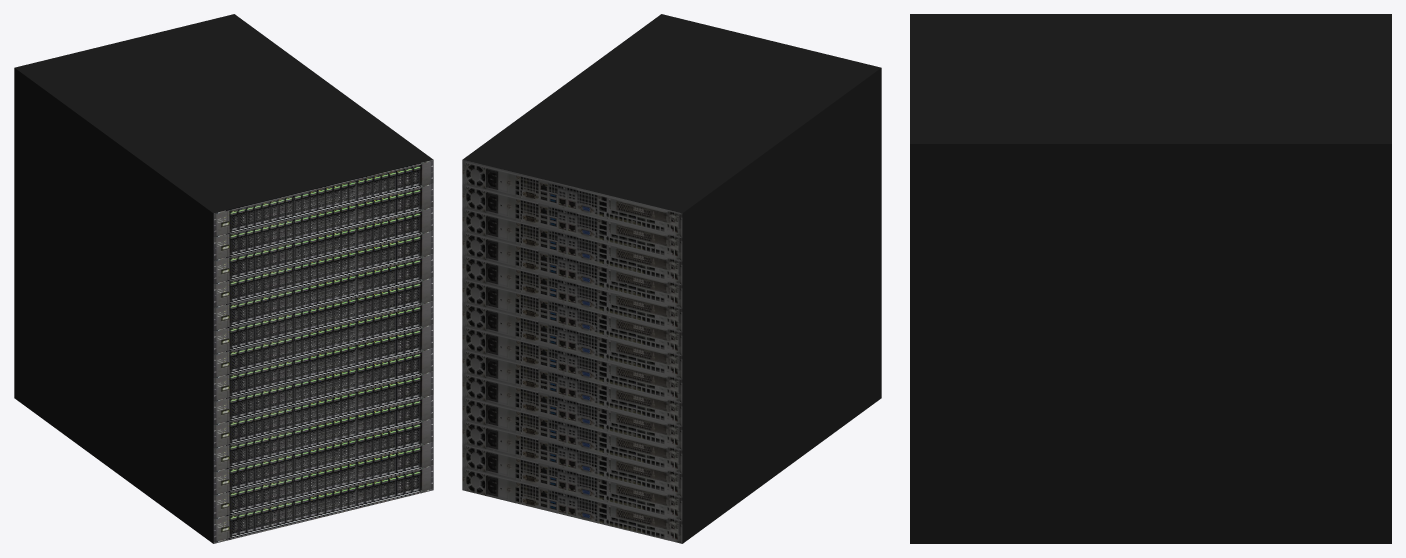
File: EDR14.fbx
The picture shows the model from 3 angles, left to right: view 1: azimuth 30°, elevation 25°; view 2: azimuth 150°, elevation 25°; view 3: azimuth 270°, elevation 25°; orthographic projection. The views are drawn at different scales.
Parts seen in each view (by area): view 1: EDR14; view 2: EDR14; view 3: EDR14.
Part boxes in pixels (x1,y1,x2,y2): EDR14: (14, 14, 433, 543); EDR14: (462, 14, 881, 543); EDR14: (910, 14, 1391, 543).
Bounding box in the file's own units: 434 × 623 × 680.
3 materials, 2 textured.
